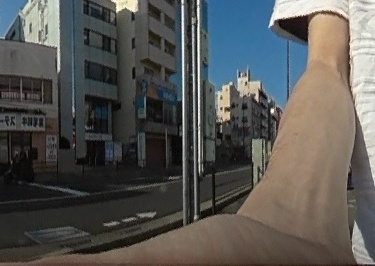person: (16, 141, 30, 177)
